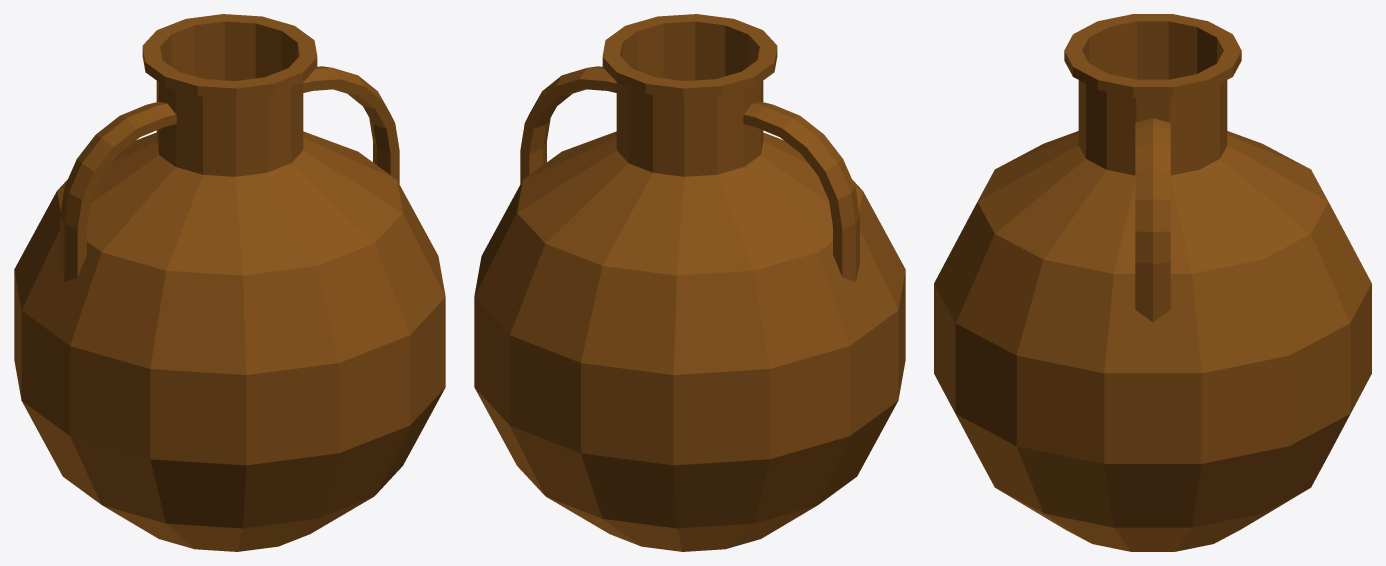
The model's file is SM_pottery_020.fbx.
The picture shows the model from 3 angles, left to right: view 1: azimuth 30°, elevation 25°; view 2: azimuth 150°, elevation 25°; view 3: azimuth 270°, elevation 25°; orthographic projection.
Parts seen in each view (by area): view 1: Line010; view 2: Line010; view 3: Line010.
Boxes of the visible parts, <box> form: Line010: <box>14,14,445,551</box>; Line010: <box>474,14,905,551</box>; Line010: <box>934,14,1371,551</box>.
Size of the model in its own units: 24.98 by 25.62 by 31.09.
